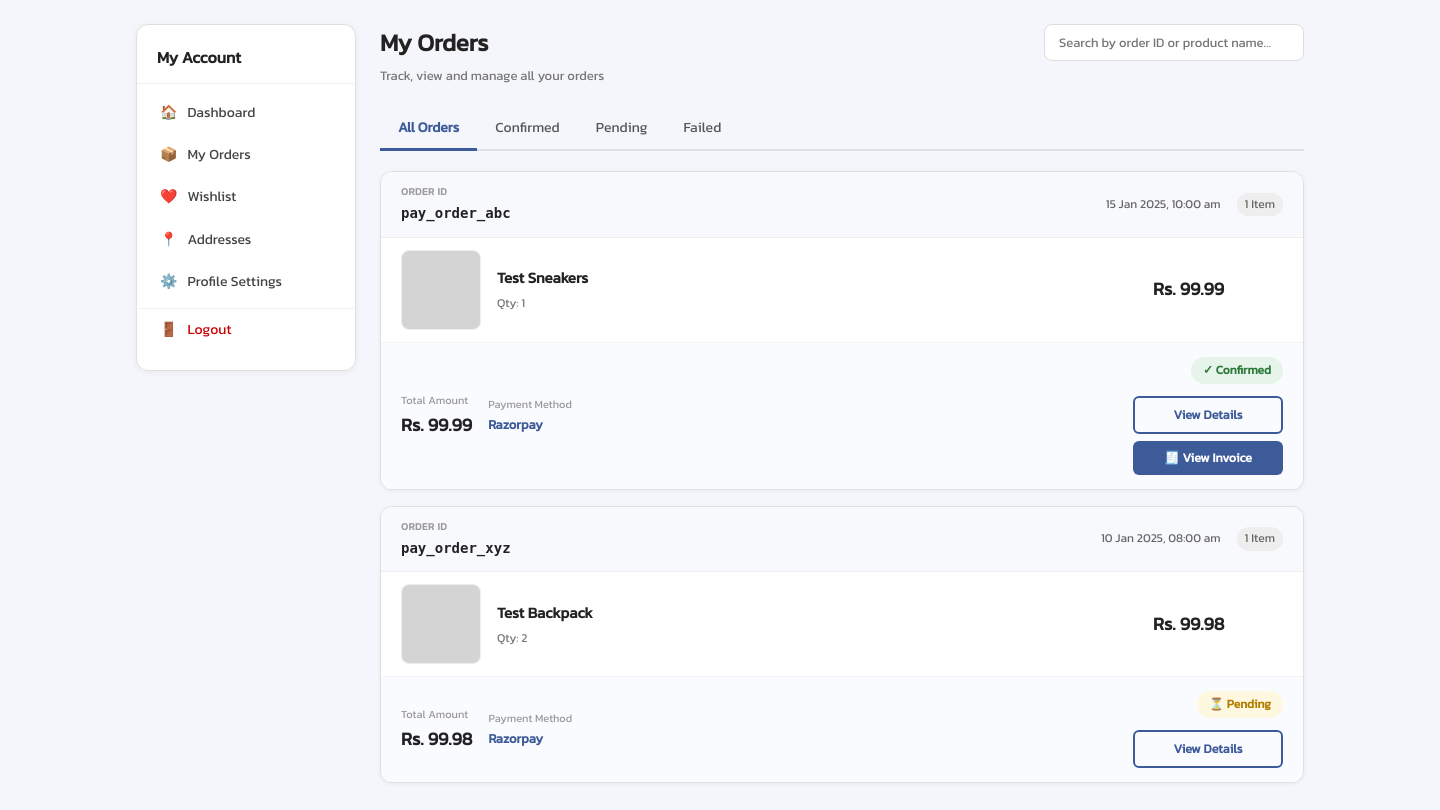
Scenario: Orders page › search input filters orders by product name
Expected: the text "Test Sneakers" is shown, [497,266,588,289]
Type "Sneakers" into the search field at x=1174, y=42, box [1044,24,1304,61]
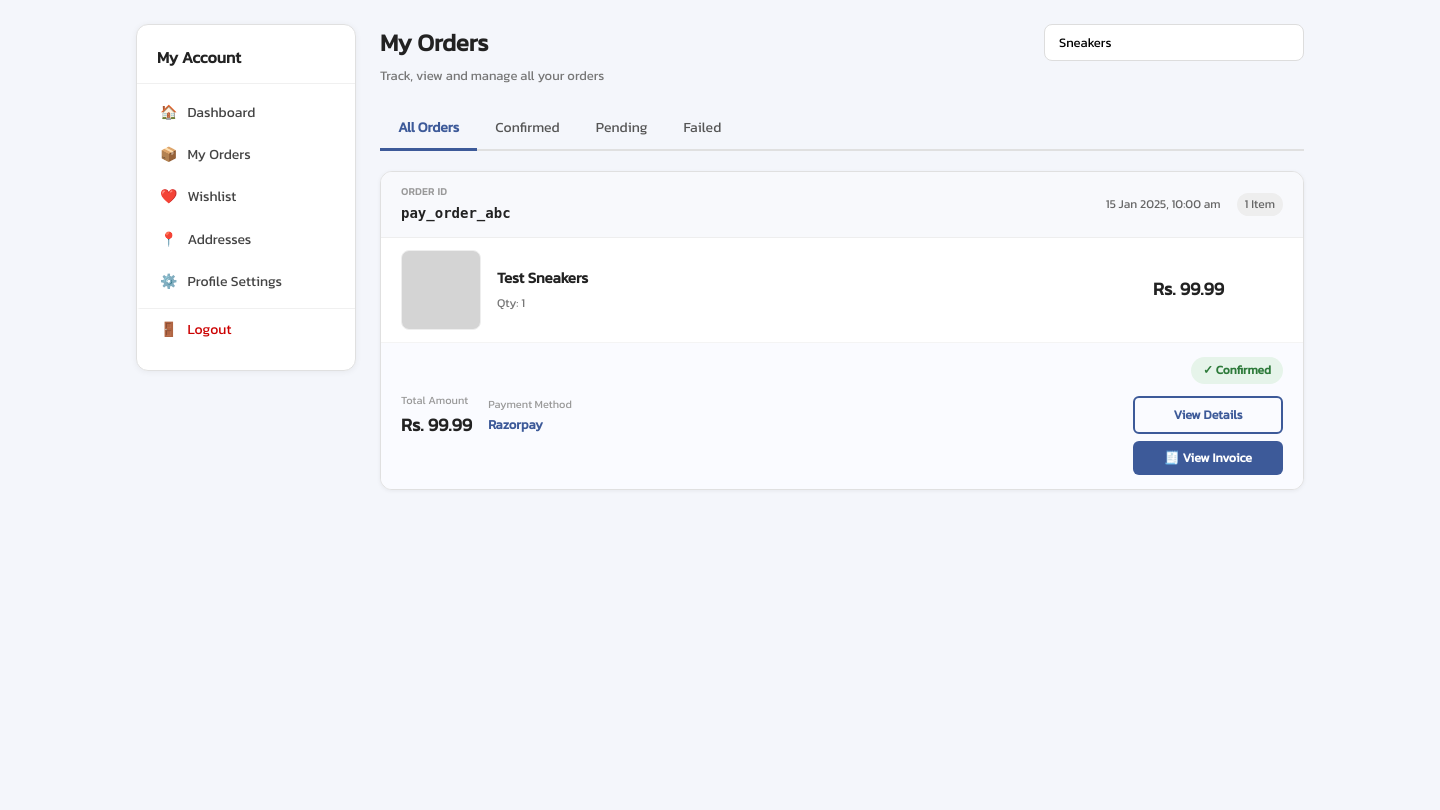
Expected: the text "Test Sneakers" is shown, [497,266,588,289]
Expected: the text "Test Backpack" is gone
